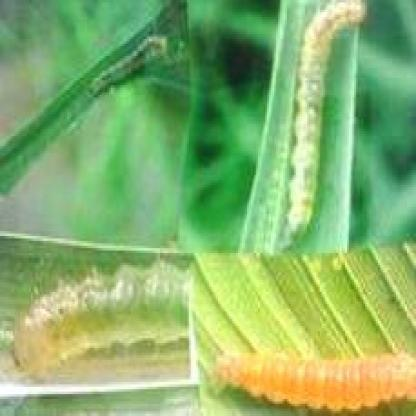leaf-folder: (278, 3, 392, 244), (18, 256, 182, 385), (212, 329, 416, 416), (85, 23, 164, 108)
